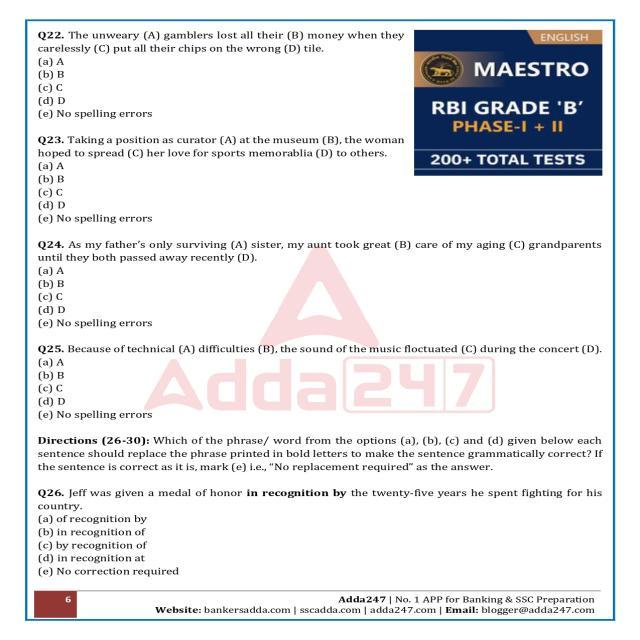Answer_Block: (26, 159, 616, 234), (26, 511, 616, 584), (26, 56, 616, 128), (26, 357, 616, 425), (26, 268, 616, 332)
Instruction: (31, 427, 615, 482)
Question_Answer_Block: (26, 18, 616, 128), (26, 129, 616, 234), (26, 232, 616, 332), (26, 485, 616, 584), (26, 335, 616, 425)
Question_Block: (26, 19, 616, 59), (26, 232, 616, 266), (26, 128, 616, 160), (26, 484, 616, 511), (26, 335, 616, 360)
Question_Paper_Area: (26, 19, 616, 619)
